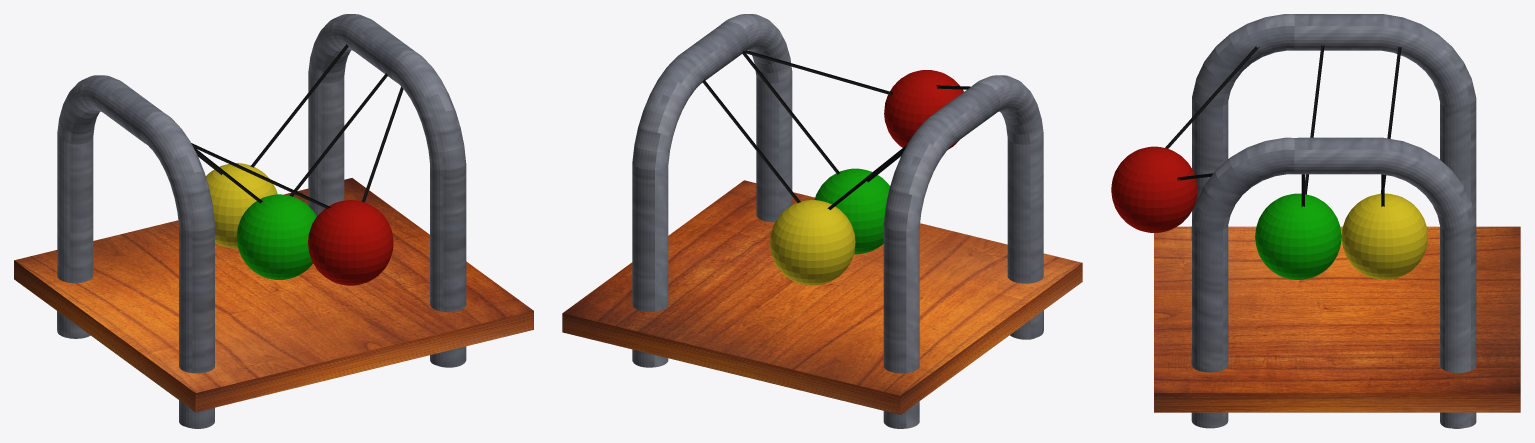
Rendered from pptmobile.obj.
3 views of the same model, side by side, from view 1: azimuth 30°, elevation 25°; view 2: azimuth 150°, elevation 25°; view 3: azimuth 270°, elevation 25° (orthographic).
Visible parts, largest first — view 1: Cube_Cube.001, Cylinder.001_Cylinder.002, Cylinder.000_Cylinder.002, Sphere.003, Sphere.001, Sphere.000, Cylinder, Cylinder.005_Cylinder.006, Cylinder.004_Cylinder.005; view 2: Cube_Cube.001, Cylinder.001_Cylinder.002, Cylinder.000_Cylinder.002, Sphere.000, Sphere.001, Sphere.003, Cylinder.006_Cylinder.007, Cylinder, Cylinder.004_Cylinder.005; view 3: Cube_Cube.001, Cylinder.000_Cylinder.002, Cylinder.001_Cylinder.002, Sphere.000, Sphere.001, Sphere.003, Cylinder.005_Cylinder.006, Cylinder.003_Cylinder.004, Cylinder.002_Cylinder.003.
Part boxes in pixels (x1,y1,x2,y2): Cube_Cube.001: [14, 178, 533, 411]; Cylinder.001_Cylinder.002: [57, 75, 214, 428]; Cylinder.000_Cylinder.002: [308, 14, 466, 367]; Sphere.003: [308, 200, 393, 285]; Sphere.001: [236, 194, 316, 279]; Sphere.000: [206, 163, 277, 248]; Cylinder: [250, 44, 348, 167]; Cylinder.005_Cylinder.006: [191, 143, 330, 208]; Cylinder.004_Cylinder.005: [289, 73, 388, 196]; Cube_Cube.001: [562, 180, 1082, 414]; Cylinder.001_Cylinder.002: [883, 75, 1043, 428]; Cylinder.000_Cylinder.002: [632, 14, 792, 367]; Sphere.000: [770, 200, 855, 285]; Sphere.001: [814, 168, 889, 254]; Sphere.003: [884, 70, 963, 149]; Cylinder.006_Cylinder.007: [745, 50, 892, 95]; Cylinder: [702, 79, 800, 202]; Cylinder.004_Cylinder.005: [742, 50, 839, 174]; Cube_Cube.001: [1154, 226, 1520, 412]; Cylinder.000_Cylinder.002: [1191, 137, 1476, 428]; Cylinder.001_Cylinder.002: [1191, 14, 1476, 240]; Sphere.000: [1341, 193, 1427, 279]; Sphere.001: [1255, 193, 1341, 279]; Sphere.003: [1111, 146, 1197, 232]; Cylinder.005_Cylinder.006: [1165, 46, 1259, 148]; Cylinder.003_Cylinder.004: [1305, 45, 1324, 194]; Cylinder.002_Cylinder.003: [1380, 46, 1401, 193].
Size of what is drawn, in the model's own units: 2.7 by 2.13 by 2.81.
